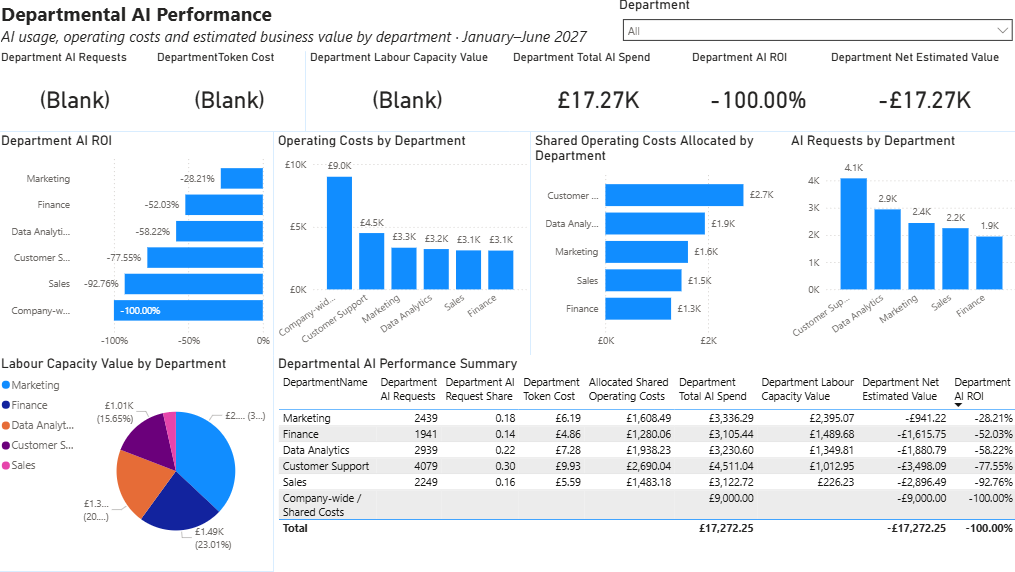

What the dashboard file says about the page in this screenshot:
{"tool":"powerbi","page":{"name":"Departmental Analysis","canvas":[1280,720],"ordinal":1},"visuals":[{"type":"textbox","box":[0,0,772.8,69.2],"z":0},{"type":"slicer","title":"Department","fields":{"Values":["departments_costs.DepartmentName"]},"box":[773,0,507,69],"z":1000},{"type":"card","title":"Department AI Requests","fields":{"Values":["vw_ai_usage.Department AI Requests"]},"box":[0,68.8,195,101.2],"z":2000},{"type":"card","title":"DepartmentToken Cost","fields":{"Values":["vw_ai_usage.Department Token Cost"]},"box":[195,68.8,191.2,101.2],"z":3000},{"type":"card","title":"Department Labour Capacity Value","fields":{"Values":["vw_work_outcomes.Department Labour Capacity Value"]},"box":[386.2,68.8,253.8,101.2],"z":4000},{"type":"card","title":"Department Total AI Spend","fields":{"Values":["vw_ai_usage.Department Total AI Spend"]},"box":[640,68.8,223.8,101.2],"z":5000},{"type":"card","title":"Department AI ROI","fields":{"Values":["vw_work_outcomes.Department AI ROI"]},"box":[863.8,68.8,173.8,101.2],"z":6000},{"type":"card","title":"Department Net Estimated Value","fields":{"Values":["vw_work_outcomes.Department Net Estimated Value"]},"box":[1037.5,68.8,242.5,101.2],"z":7000},{"type":"clusteredBarChart","title":"Department AI ROI ","fields":{"Category":["departments_costs.DepartmentName"],"Y":["vw_work_outcomes.Department AI ROI Chart"]},"box":[0,170,346.2,278.8],"z":8000},{"type":"clusteredColumnChart","title":"AI Requests by Department","fields":{"Category":["departments_costs.DepartmentName"],"Y":["vw_ai_usage.Department AI Requests"]},"box":[987.5,170,292.5,278.8],"z":9000},{"type":"clusteredColumnChart","title":"Operating Costs by Department","fields":{"Category":["departments_costs.DepartmentName"],"Y":["vw_operating_costs.Total Department Operating Costs"]},"box":[346.2,170,321.2,278.8],"z":10000},{"type":"pieChart","title":"Labour Capacity Value by Department","fields":{"Category":["departments_costs.DepartmentName"],"Y":["vw_work_outcomes.Department Labour Capacity Value"]},"box":[0,448.8,346.2,271.2],"z":11000},{"type":"clusteredBarChart","title":"Shared Operating Costs Allocated by Department","fields":{"Category":["departments_costs.DepartmentName"],"Y":["vw_operating_costs.Allocated Shared Operating Costs"]},"box":[667.5,170,320,278.8],"z":12000},{"type":"tableEx","title":"Departmental AI Performance Summary","fields":{"Values":["departments_costs.DepartmentName","vw_ai_usage.Department AI Requests","vw_ai_usage.Department AI Request Share","vw_ai_usage.Department Token Cost","vw_operating_costs.Allocated Shared Operating Costs","vw_ai_usage.Department Total AI Spend","vw_work_outcomes.Department Labour Capacity Value","vw_work_outcomes.Department Net Estimated Value","vw_work_outcomes.Department AI ROI"]},"box":[345.9,449.1,934.6,272.1],"z":13000}]}

Visuals, with their boxes in screenshot pixels (x1, y1, x2, y2), scaled from the page's 1280x720 canvas onto the 1015x572 screenshot:
textbox: [0, 0, 613, 55]
"Department" slicer: [613, 0, 1014, 55]
"Department AI Requests" card: [0, 55, 155, 135]
"DepartmentToken Cost" card: [155, 55, 306, 135]
"Department Labour Capacity Value" card: [306, 55, 508, 135]
"Department Total AI Spend" card: [508, 55, 685, 135]
"Department AI ROI" card: [685, 55, 823, 135]
"Department Net Estimated Value" card: [823, 55, 1014, 135]
"Department AI ROI " clusteredBarChart: [0, 135, 275, 357]
"AI Requests by Department" clusteredColumnChart: [783, 135, 1014, 357]
"Operating Costs by Department" clusteredColumnChart: [275, 135, 529, 357]
"Labour Capacity Value by Department" pieChart: [0, 357, 275, 571]
"Shared Operating Costs Allocated by Department" clusteredBarChart: [529, 135, 783, 357]
"Departmental AI Performance Summary" tableEx: [274, 357, 1014, 571]
